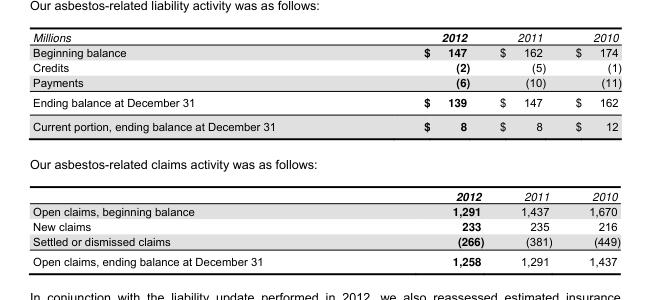table: (28, 28, 620, 268)
table column: (28, 28, 349, 268), (349, 28, 491, 268), (491, 28, 563, 268), (563, 28, 620, 268)
table column header: (28, 28, 620, 44)
table projected row header: (28, 145, 620, 179)
table row: (28, 145, 620, 179), (28, 113, 620, 145), (28, 179, 620, 202), (28, 92, 620, 113), (28, 74, 620, 92), (28, 250, 620, 268), (28, 233, 620, 250), (28, 28, 620, 44), (28, 202, 620, 218), (28, 44, 620, 59), (28, 59, 620, 74), (28, 218, 620, 233)
